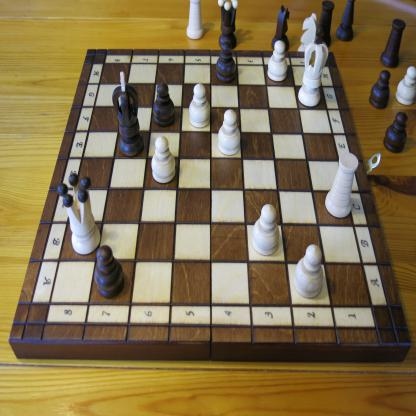black-bishop: (336, 0, 356, 39)
black-king: (112, 70, 145, 158)
black-knight: (271, 4, 291, 50)
black-pawn: (94, 244, 125, 300), (383, 110, 409, 154), (153, 82, 175, 127), (369, 68, 391, 110), (215, 41, 236, 84)
black-queen: (217, 0, 238, 49)
black-rook: (379, 18, 406, 69), (316, 0, 336, 46)
white-king: (297, 27, 329, 108)
white-knight: (297, 12, 319, 52)
white-pawn: (293, 244, 324, 298), (252, 203, 280, 256), (151, 136, 176, 184), (217, 109, 241, 156), (189, 83, 211, 128), (267, 40, 288, 82), (395, 63, 415, 106)
white-queen: (57, 172, 101, 256)
white-rook: (324, 152, 359, 219), (185, 0, 205, 40)
